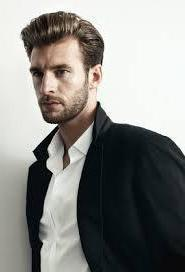Sober: (30, 48, 83, 116)
